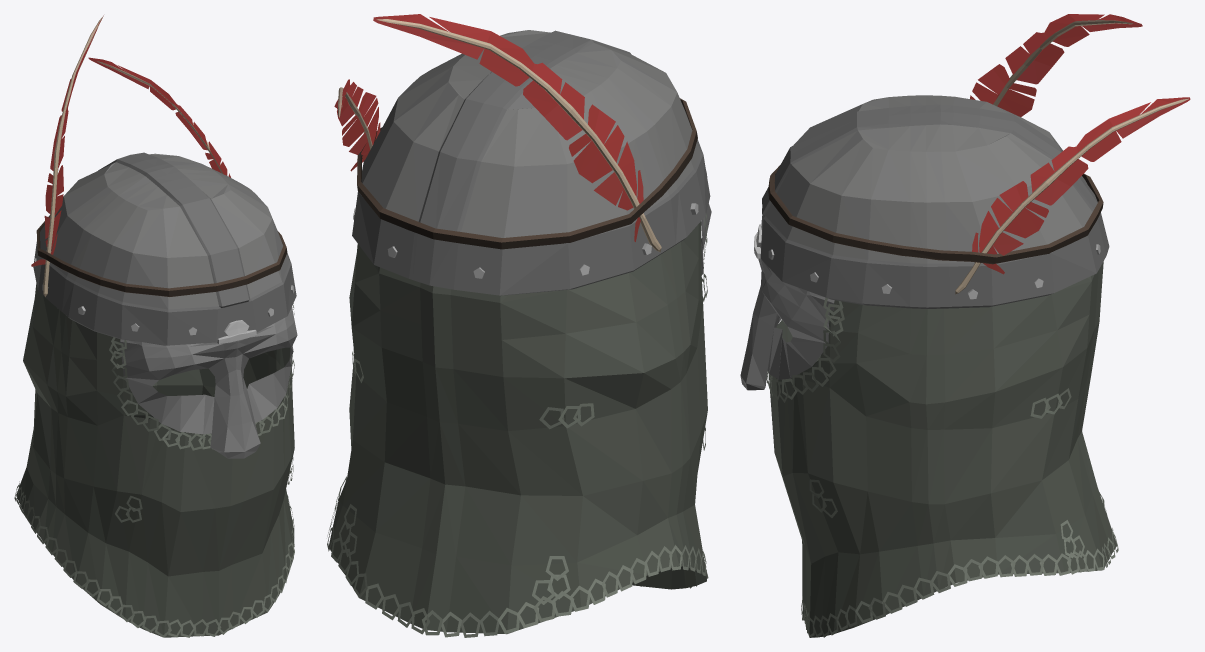
Rendered from chainmailHelmetClosedFemale.glb.
The picture shows the model from 3 angles, left to right: view 1: azimuth 30°, elevation 25°; view 2: azimuth 150°, elevation 25°; view 3: azimuth 270°, elevation 25°; orthographic projection. The views are drawn at different scales.
Parts seen in each view (by area): view 1: chainmailHelmetClosed; view 2: chainmailHelmetClosed; view 3: chainmailHelmetClosed.
Part boxes in pixels (<box>): chainmailHelmetClosed: <box>14,15,297,637</box>; chainmailHelmetClosed: <box>327,14,711,637</box>; chainmailHelmetClosed: <box>740,14,1190,637</box>.
Size of the model in its own units: 0.2991 by 0.6094 by 0.4073.
